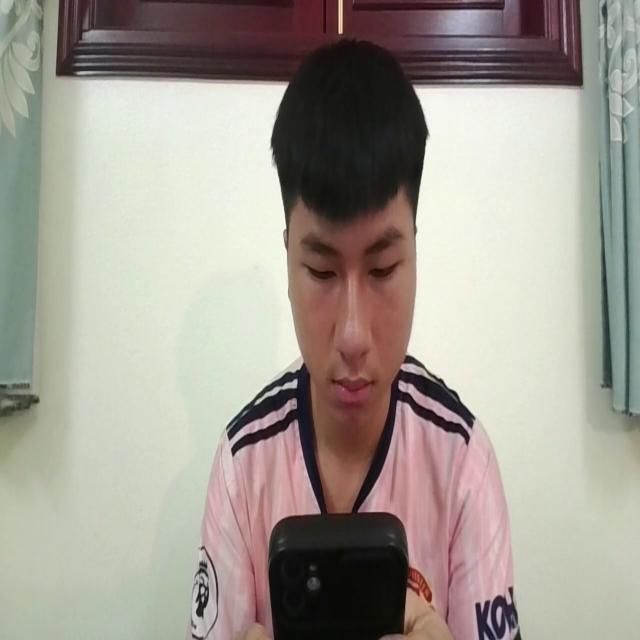phone: (266, 511, 408, 640)
student: (191, 37, 519, 640)
